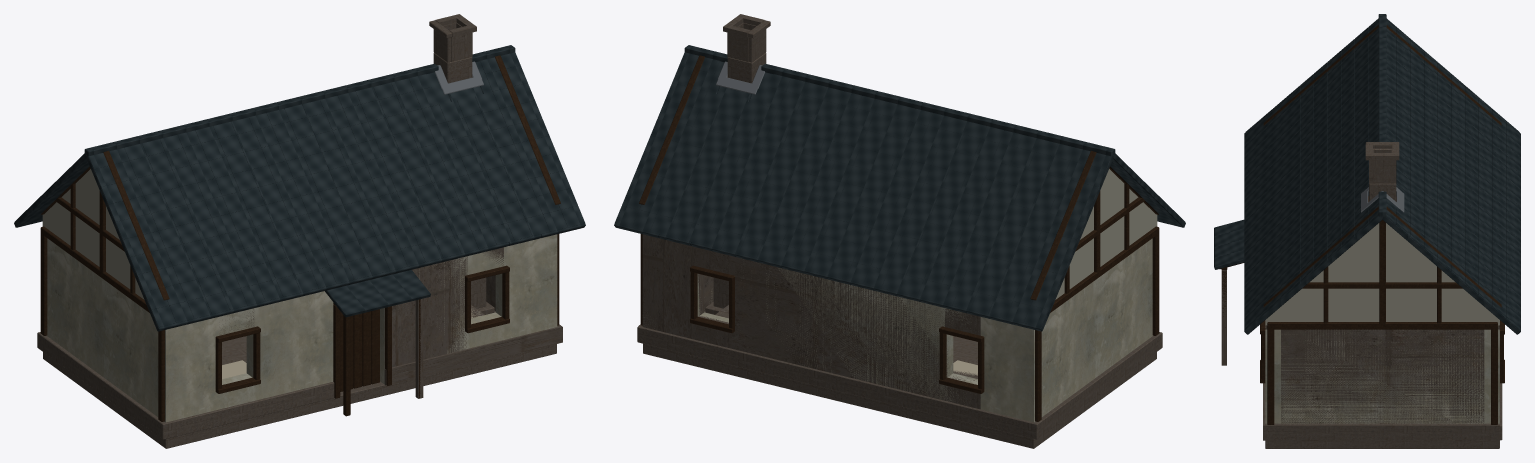
Rendered from s_infirmary.glb.
3 views of the same model, side by side, from view 1: azimuth 30°, elevation 25°; view 2: azimuth 150°, elevation 25°; view 3: azimuth 270°, elevation 25° (orthographic). The views are drawn at different scales.
Parts seen in each view (by area): view 1: roof, front, foundation, window jamb, front-colonly.005, front stone belt-colonly.001, canopy post-colonly.001, Door plank.002, Door plank.003, chimney flashing, Door plank.004; view 2: roof, front, rear-colonly.003, foundation, window jamb, rear-colonly.006, rear-colonly.005, rear-colonly.002, chimney flashing, rear-colonly.004, rear-colonly.001; view 3: roof, front, side wall-colonly.001, window jamb, foundation, side stone belt-colonly.001, chimney wall-colonly.001, canopy post-colonly.001, chimney flashing.
Boxes of the visible parts, x1,y1,x2,y2 form: roof: (14, 45, 585, 331); front: (42, 76, 557, 422); foundation: (37, 14, 560, 448); window jamb: (40, 55, 560, 421); front-colonly.005: (384, 256, 467, 368); front stone belt-colonly.001: (384, 325, 562, 385); canopy post-colonly.001: (415, 298, 423, 398); Door plank.002: (353, 313, 362, 388); Door plank.003: (362, 311, 371, 386); chimney flashing: (435, 61, 483, 94); Door plank.004: (371, 309, 379, 384); roof: (614, 45, 1185, 331); front: (644, 76, 1157, 422); rear-colonly.003: (731, 256, 949, 400); foundation: (637, 14, 1162, 448); window jamb: (639, 55, 1159, 421); rear-colonly.006: (642, 234, 704, 339); rear-colonly.005: (696, 247, 731, 274); rear-colonly.002: (945, 308, 980, 335); chimney flashing: (716, 61, 764, 94); rear-colonly.004: (696, 316, 731, 348); rear-colonly.001: (945, 376, 980, 409); roof: (1214, 14, 1520, 334); front: (1265, 223, 1499, 423); side wall-colonly.001: (1281, 329, 1484, 423); window jamb: (1219, 25, 1504, 424); foundation: (1263, 142, 1502, 448); side stone belt-colonly.001: (1265, 423, 1499, 440); chimney wall-colonly.001: (1369, 160, 1396, 183); canopy post-colonly.001: (1221, 270, 1226, 365); chimney flashing: (1361, 187, 1404, 212).
Size of what is drawn, in the model's own units: 12 by 7.92 by 7.85.
Materials: 6 (4 with a texture image).
